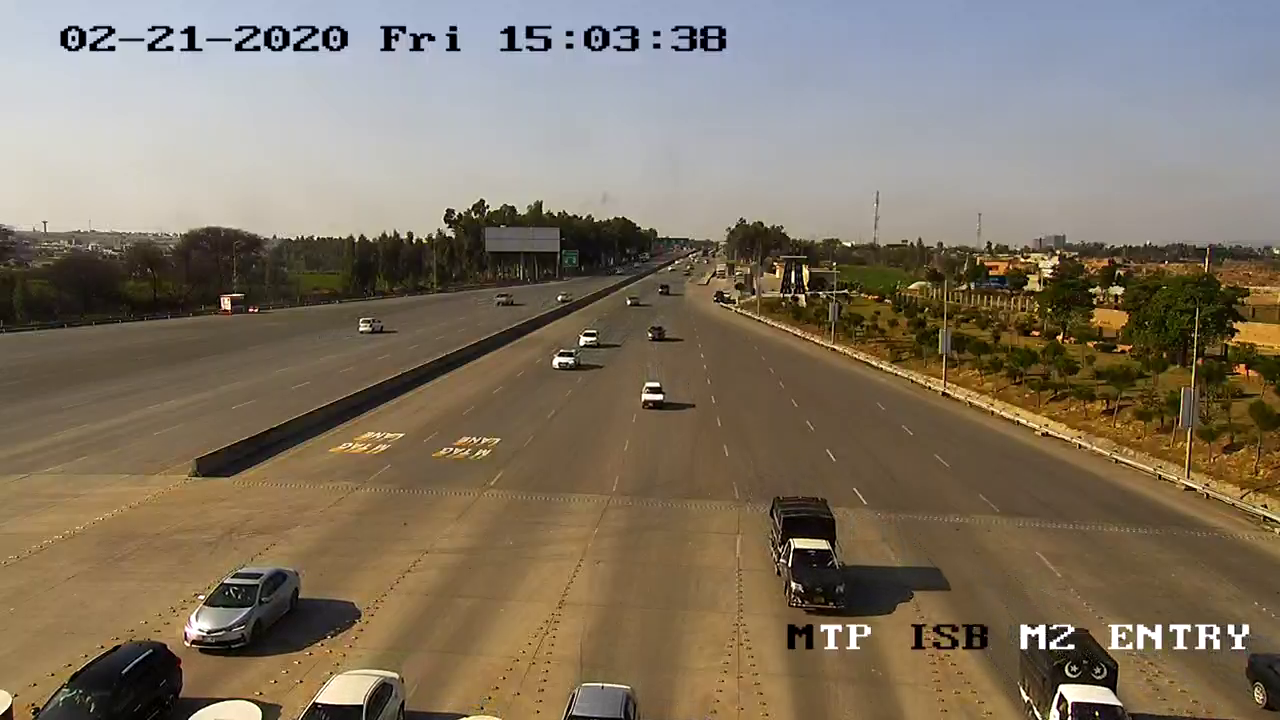f1: (166, 546, 312, 661), (634, 373, 668, 421)
f2: (752, 483, 860, 626)
